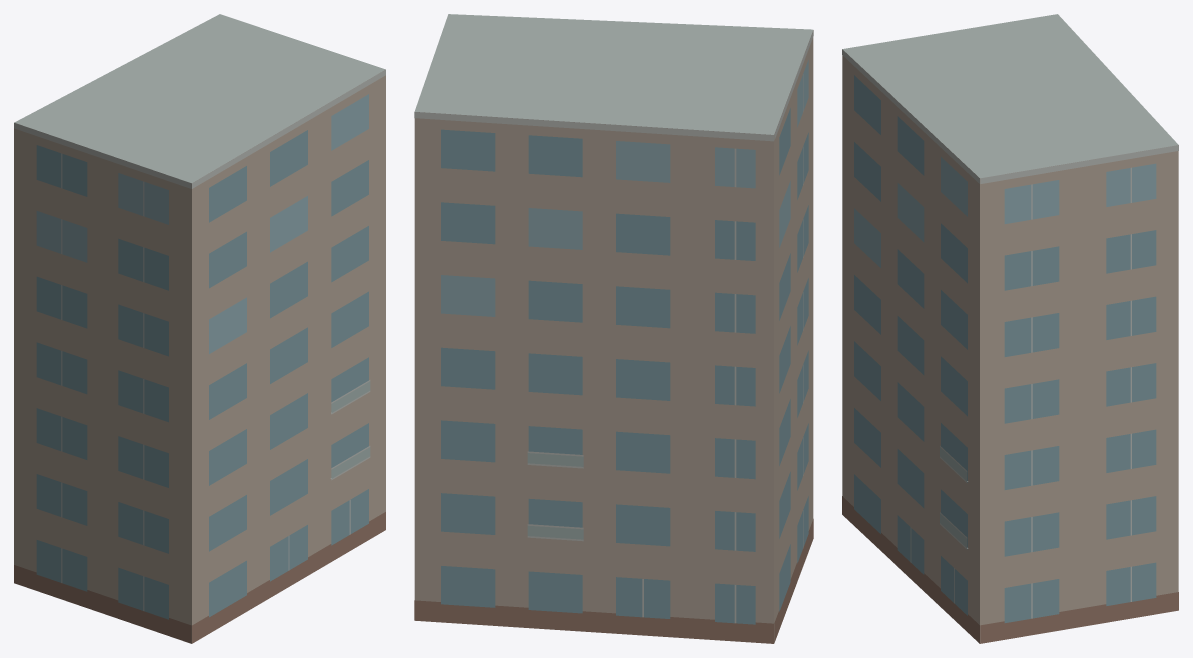
Rendered from survey-upis-32866965.glb.
The picture shows the model from 3 angles, left to right: view 1: azimuth 30°, elevation 25°; view 2: azimuth 150°, elevation 25°; view 3: azimuth 270°, elevation 25°; orthographic projection. The views are drawn at different scales.
Parts seen in each view (by area): view 1: survey-upis-32866965.tmp; view 2: survey-upis-32866965.tmp; view 3: survey-upis-32866965.tmp.
Part boxes in pixels (bbox=[...]): survey-upis-32866965.tmp: bbox=[14, 14, 385, 643]; survey-upis-32866965.tmp: bbox=[414, 14, 813, 643]; survey-upis-32866965.tmp: bbox=[842, 14, 1178, 643].
Size of the model in its own units: 14.7 by 19.4 by 12.72.
